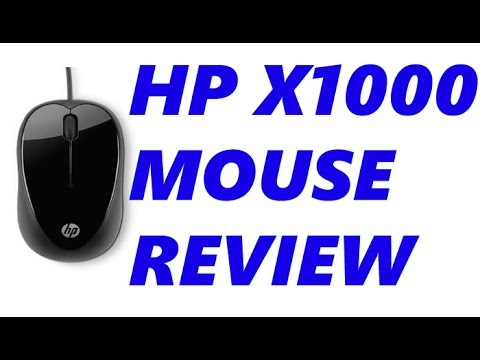hp-mouse-X1000: (10, 67, 121, 263)
